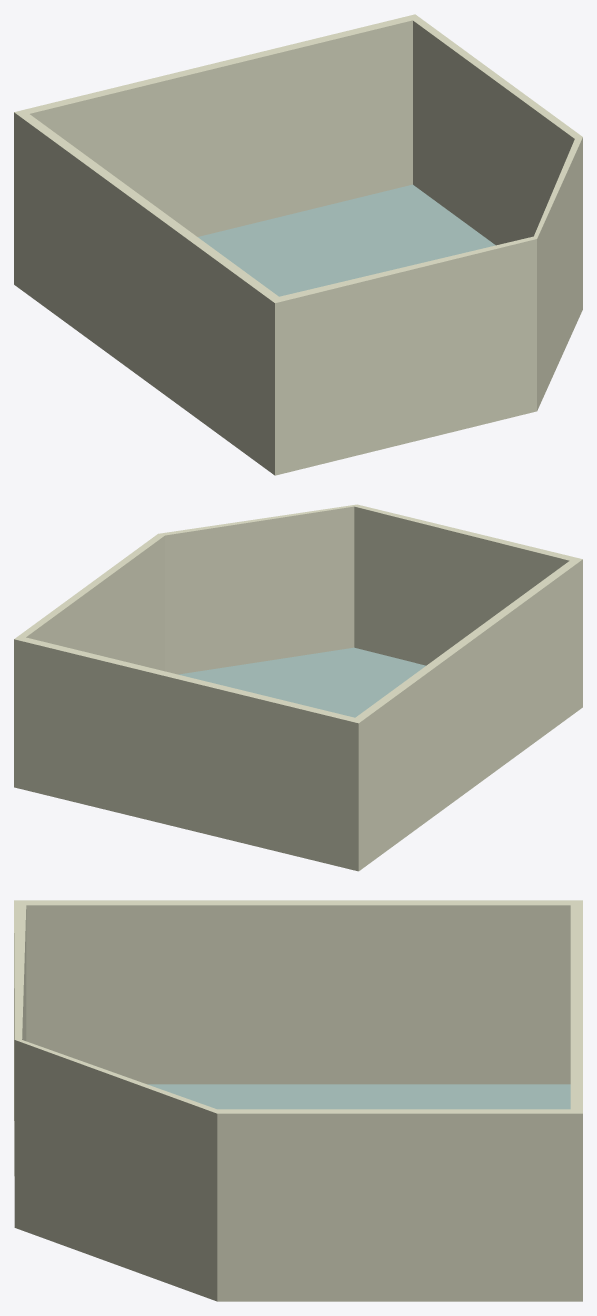
The model's file is Kitchen_Walls.fbx.
3 views of the same model, one above another, from view 1: azimuth 30°, elevation 25°; view 2: azimuth 150°, elevation 25°; view 3: azimuth 270°, elevation 25° (orthographic). The views are drawn at different scales.
Parts seen in each view (by area): view 1: Room; view 2: Room; view 3: Room.
Boxes of the visible parts, x1,y1,x2,y2 form: Room: [14, 14, 582, 475]; Room: [14, 504, 582, 871]; Room: [14, 900, 582, 1301].
Bounding box in the file's own units: 540 × 222 × 608.
